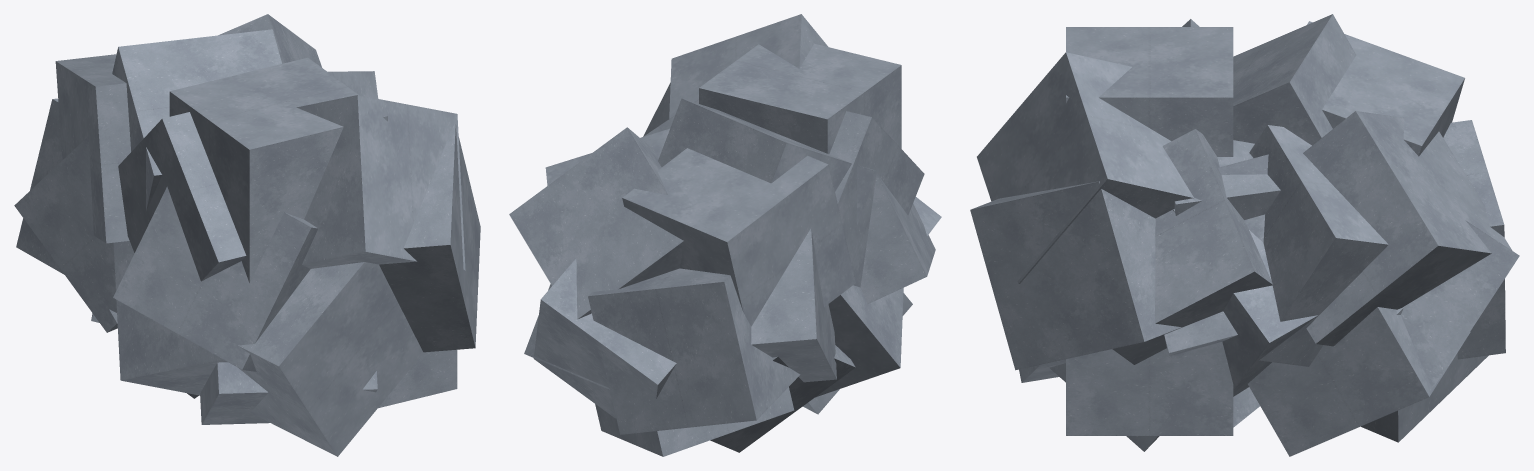
The model's file is asteroid-2.fbx.
3 renders of one model, left to right at view 1: azimuth 30°, elevation 25°; view 2: azimuth 150°, elevation 25°; view 3: azimuth 270°, elevation 25°, orthographic. The views are drawn at different scales.
Parts seen in each view (by area): view 1: mergedBlocks; view 2: mergedBlocks; view 3: mergedBlocks.
Part boxes in pixels (left/top/right/bottom): mergedBlocks: left=14, top=14, right=480, bottom=456; mergedBlocks: left=509, top=14, right=941, bottom=456; mergedBlocks: left=970, top=14, right=1519, bottom=456.
Bounding box in the file's own units: 25.32 × 25.97 × 32.89.
